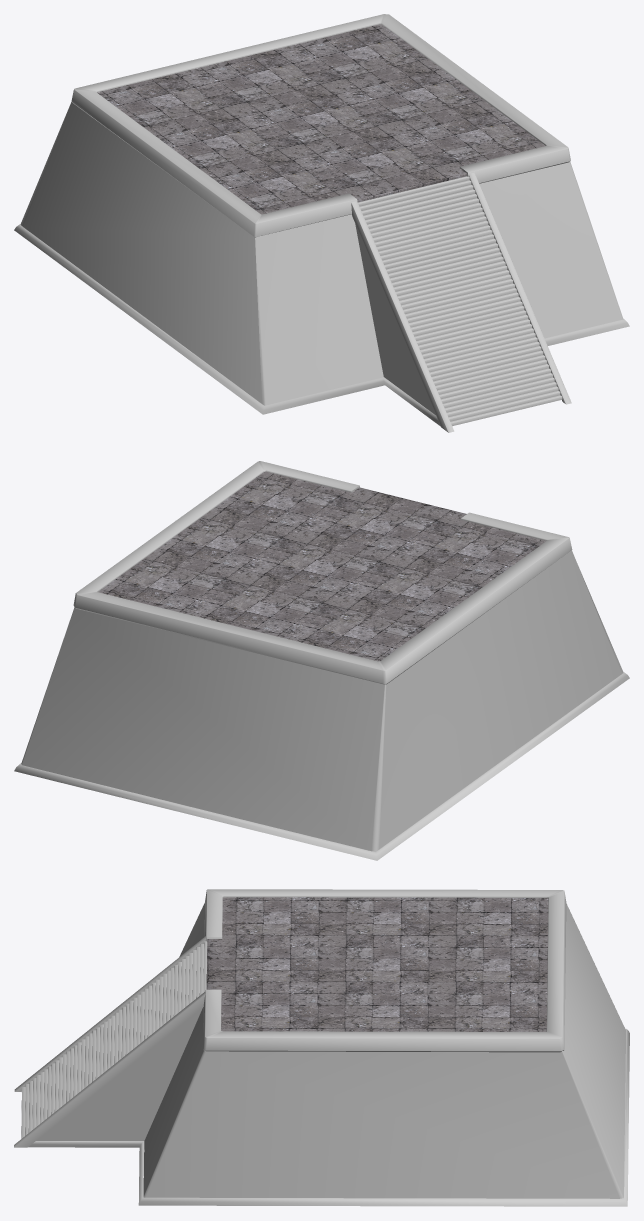
The model's file is SM_AsianCastle_A.FBX.
3 renders of one model, top to bottom at view 1: azimuth 30°, elevation 25°; view 2: azimuth 150°, elevation 25°; view 3: azimuth 270°, elevation 25°, orthographic. The views are drawn at different scales.
Visible parts, largest first — view 1: SM_AsianCastle_A; view 2: SM_AsianCastle_A; view 3: SM_AsianCastle_A.
Boxes of the visible parts, x1,y1,x2,y2 form: SM_AsianCastle_A: [14, 14, 629, 432]; SM_AsianCastle_A: [14, 461, 629, 860]; SM_AsianCastle_A: [14, 889, 629, 1206].
Size of the model in its own units: 2233 by 3327 by 928.
